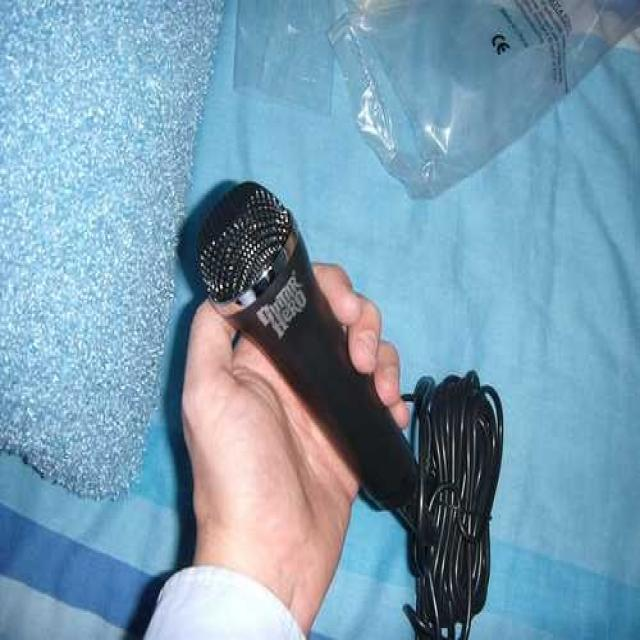microphone: (199, 176, 506, 638)
